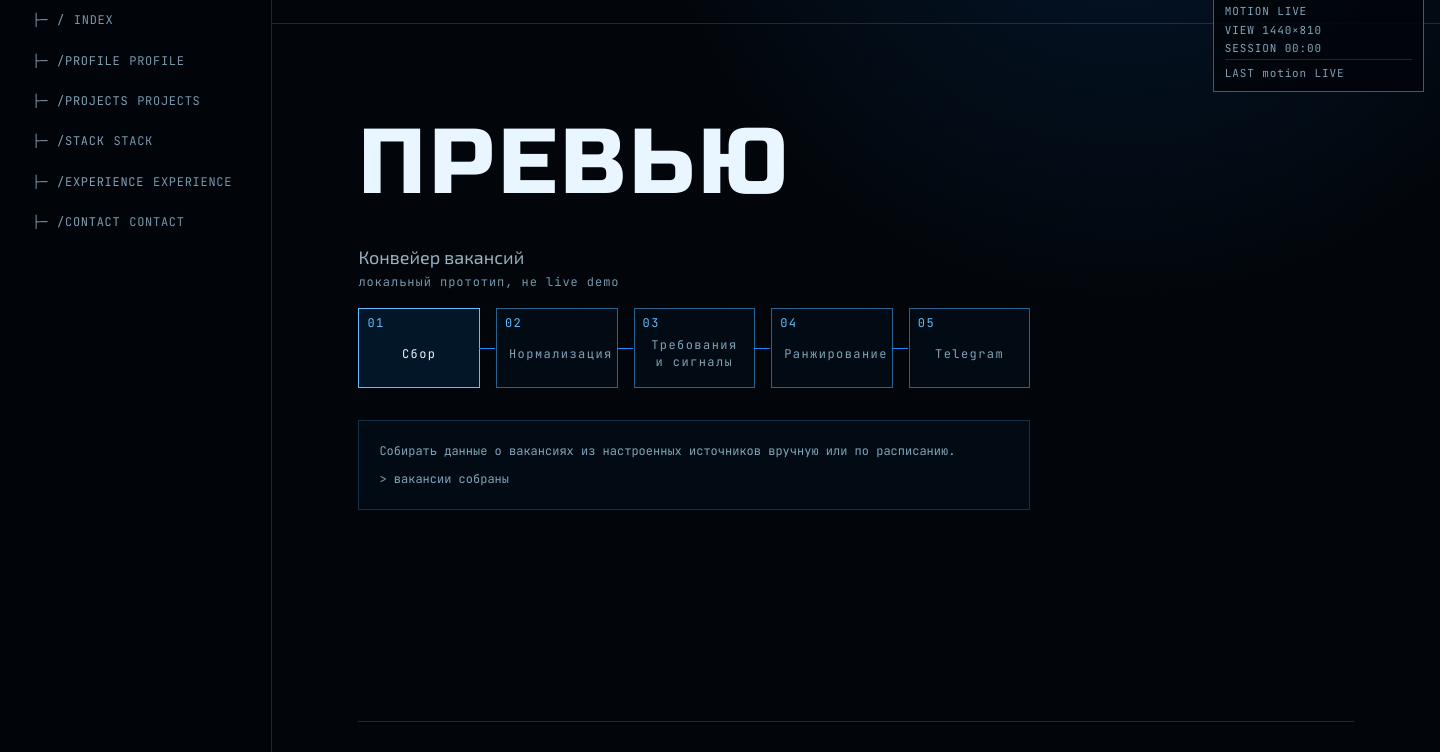
Test: project routes › lets the keyboard operate the Job Agent pipeline preview
(page scrolled)
Expected: the text "локальный прототип, не live demo" is shown, [358,274,620,290]
Expected: the text "Собирать данные о вакансиях" is shown, [379,443,955,459]
Step 1. Click the button "05 Telegram" → (970,348), box [909,308,1030,388]
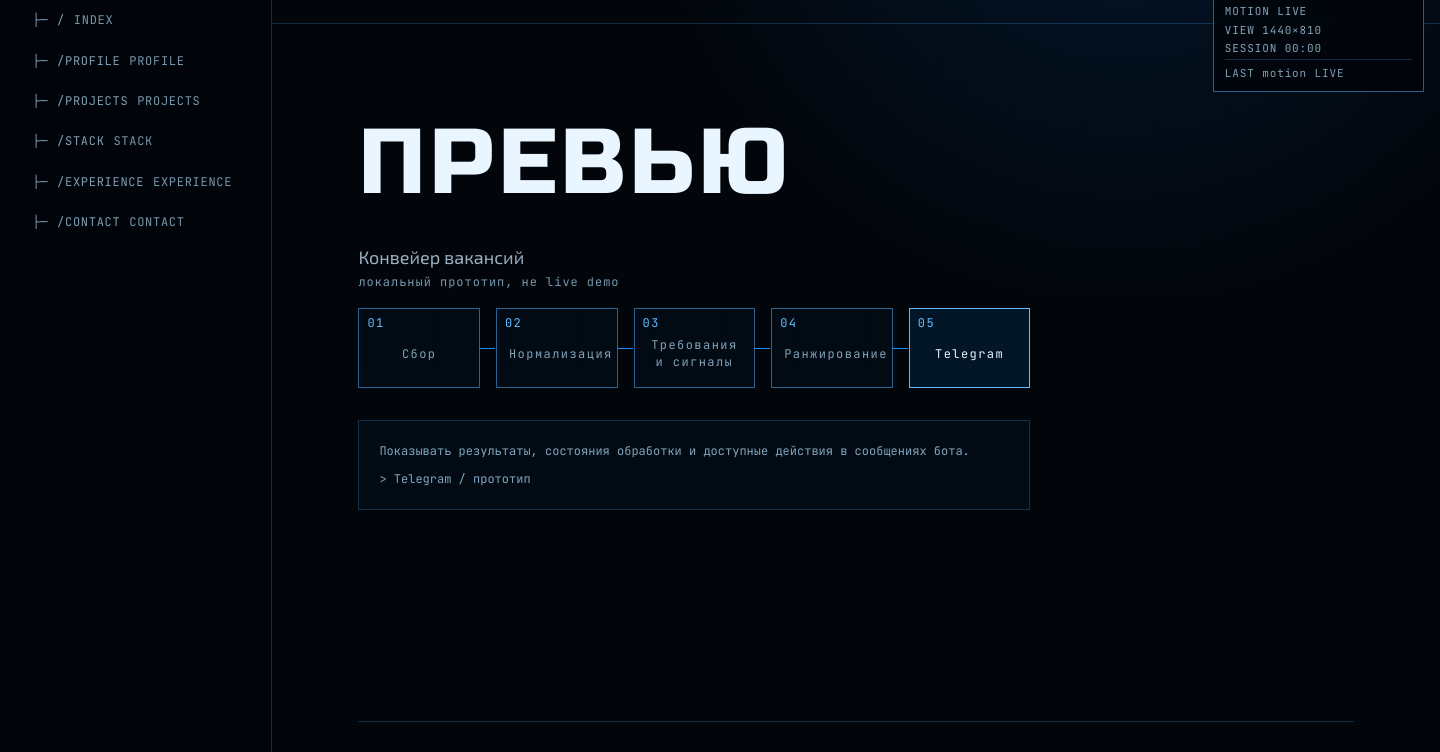
Result: the text "результаты, состояния обработки" is shown at [379,443,970,459]
Result: the text "> Telegram / прототип" is shown at [379,471,531,487]
